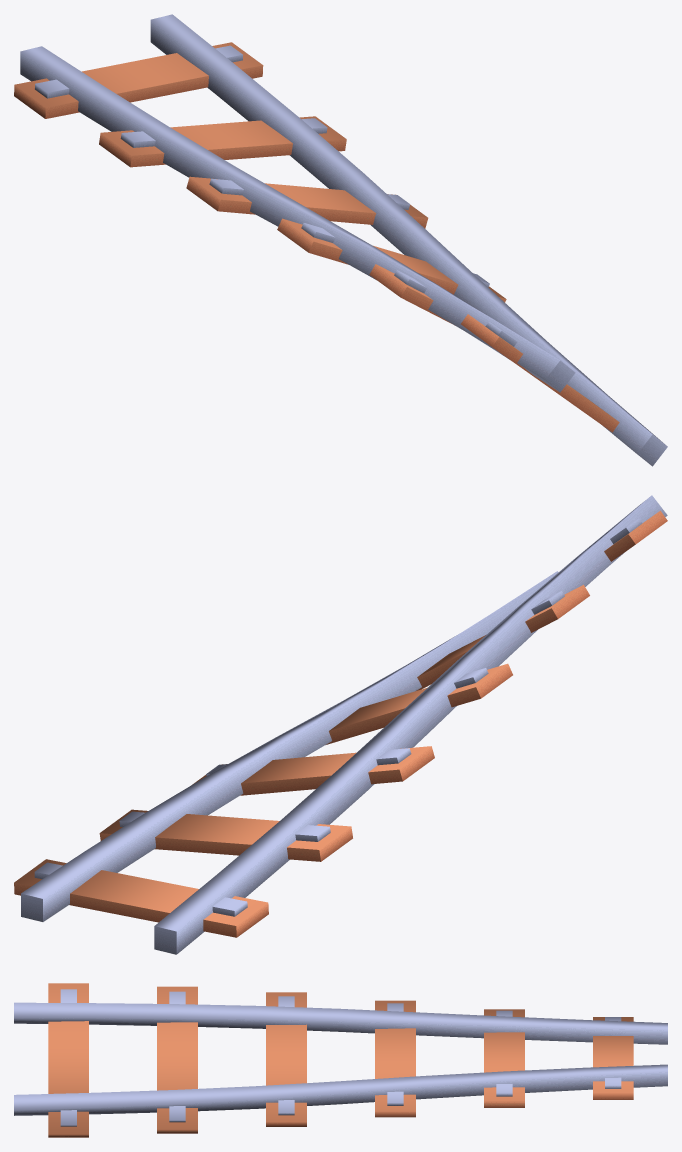
File: railroad-straight-skew-left.glb
3 renders of one model, top to bottom at view 1: azimuth 30°, elevation 25°; view 2: azimuth 150°, elevation 25°; view 3: azimuth 270°, elevation 25°, orthographic. The views are drawn at different scales.
Visible parts, largest first — view 1: railroad-straight-skew-left; view 2: railroad-straight-skew-left; view 3: railroad-straight-skew-left.
Boxes of the visible parts, bbox=[...] form: railroad-straight-skew-left: bbox=[14, 14, 667, 466]; railroad-straight-skew-left: bbox=[14, 495, 667, 954]; railroad-straight-skew-left: bbox=[14, 983, 667, 1137].
Bounding box in the file's own units: 1 × 0.7105 × 4.
1 material, 1 textured.
